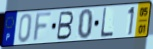0: (76, 8, 95, 41), (17, 13, 34, 45)
1: (127, 6, 136, 36)
B: (55, 11, 75, 42)
F: (31, 11, 54, 44)
L: (100, 7, 115, 39)
